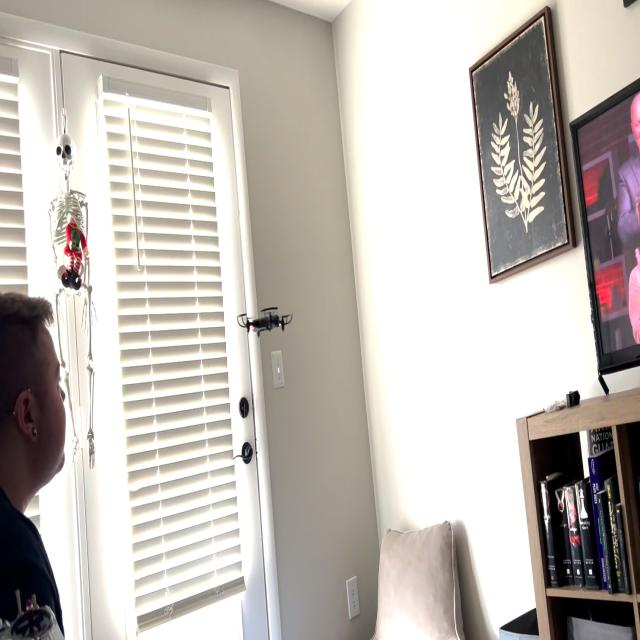drone: (231, 291, 297, 345)
